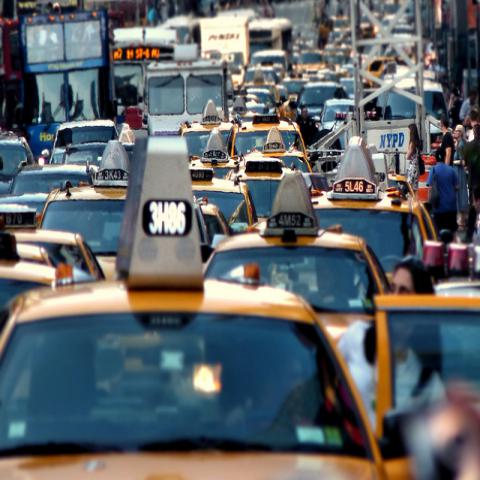bus: (20, 8, 116, 152), (139, 59, 230, 138), (112, 28, 176, 106), (249, 17, 293, 60)
car: (0, 138, 416, 479), (203, 172, 393, 344), (312, 137, 436, 280), (35, 140, 133, 282), (0, 259, 106, 309), (2, 228, 105, 278), (7, 160, 94, 213), (227, 152, 288, 223), (191, 175, 258, 235), (224, 114, 305, 158), (244, 126, 313, 172), (50, 120, 119, 162)
truck: (142, 52, 228, 137), (201, 16, 250, 66)
